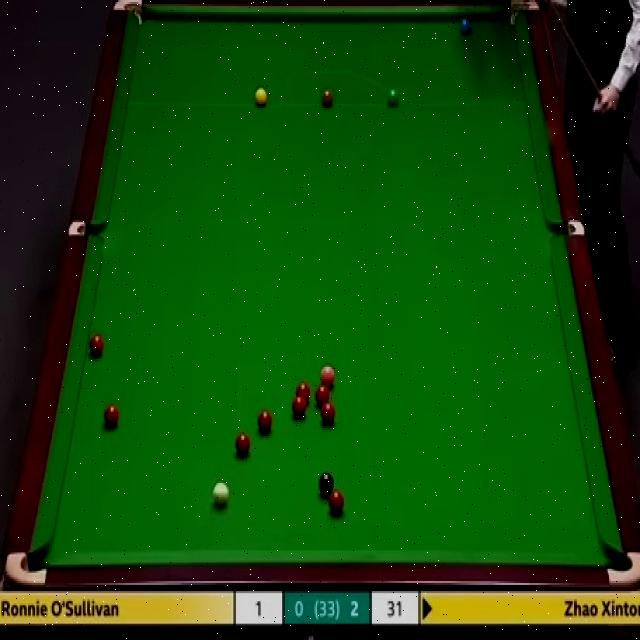black-ball: (318, 471, 333, 495)
blue-ball: (460, 17, 472, 39)
brown-ball: (321, 88, 335, 108)
green-ball: (386, 88, 400, 109)
pink-ball: (320, 365, 336, 391)
red-ball: (234, 431, 251, 458), (314, 382, 330, 408), (88, 334, 105, 358), (321, 401, 336, 428), (296, 381, 311, 408), (257, 408, 272, 434), (328, 490, 344, 513), (105, 404, 118, 428), (292, 396, 306, 417)
white-ball: (211, 481, 230, 507)
yellow-ball: (253, 87, 269, 108)
